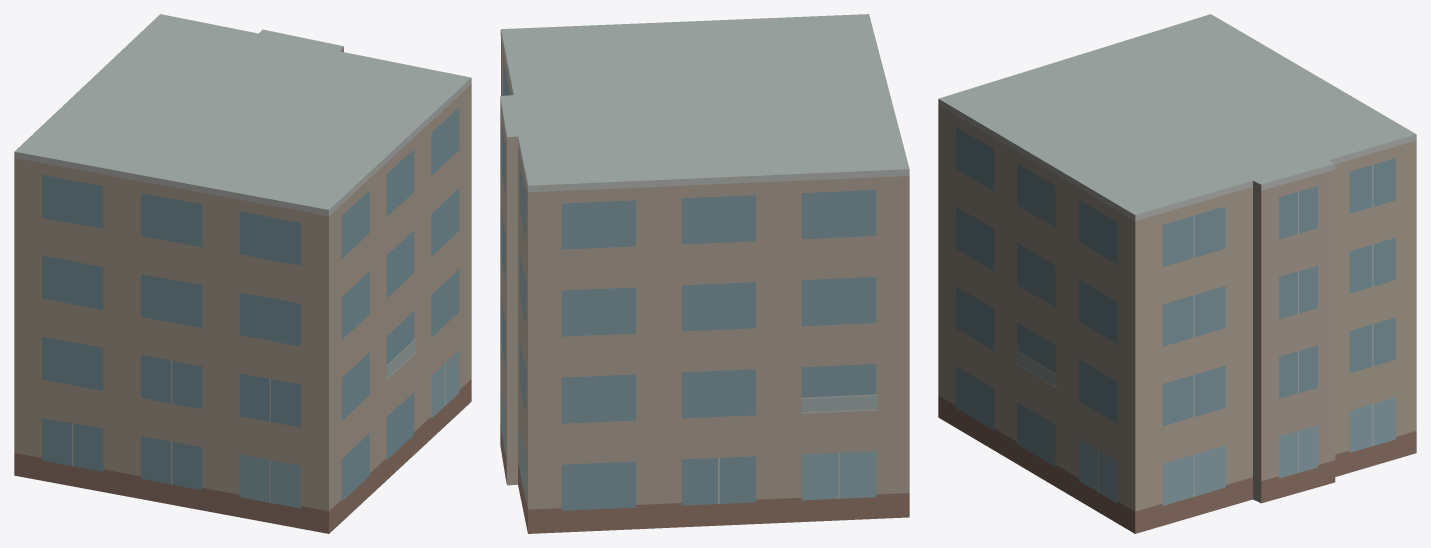
The model's file is survey-upis-32807376.glb.
3 views of the same model, side by side, from view 1: azimuth 30°, elevation 25°; view 2: azimuth 150°, elevation 25°; view 3: azimuth 270°, elevation 25° (orthographic). The views are drawn at different scales.
Visible parts, largest first — view 1: survey-upis-32807376.tmp; view 2: survey-upis-32807376.tmp; view 3: survey-upis-32807376.tmp.
Boxes of the visible parts, x1,y1,x2,y2 form: survey-upis-32807376.tmp: [14, 14, 471, 533]; survey-upis-32807376.tmp: [500, 14, 909, 533]; survey-upis-32807376.tmp: [938, 14, 1416, 533].
Size of the model in its own units: 17.19 by 12.7 by 17.28.
